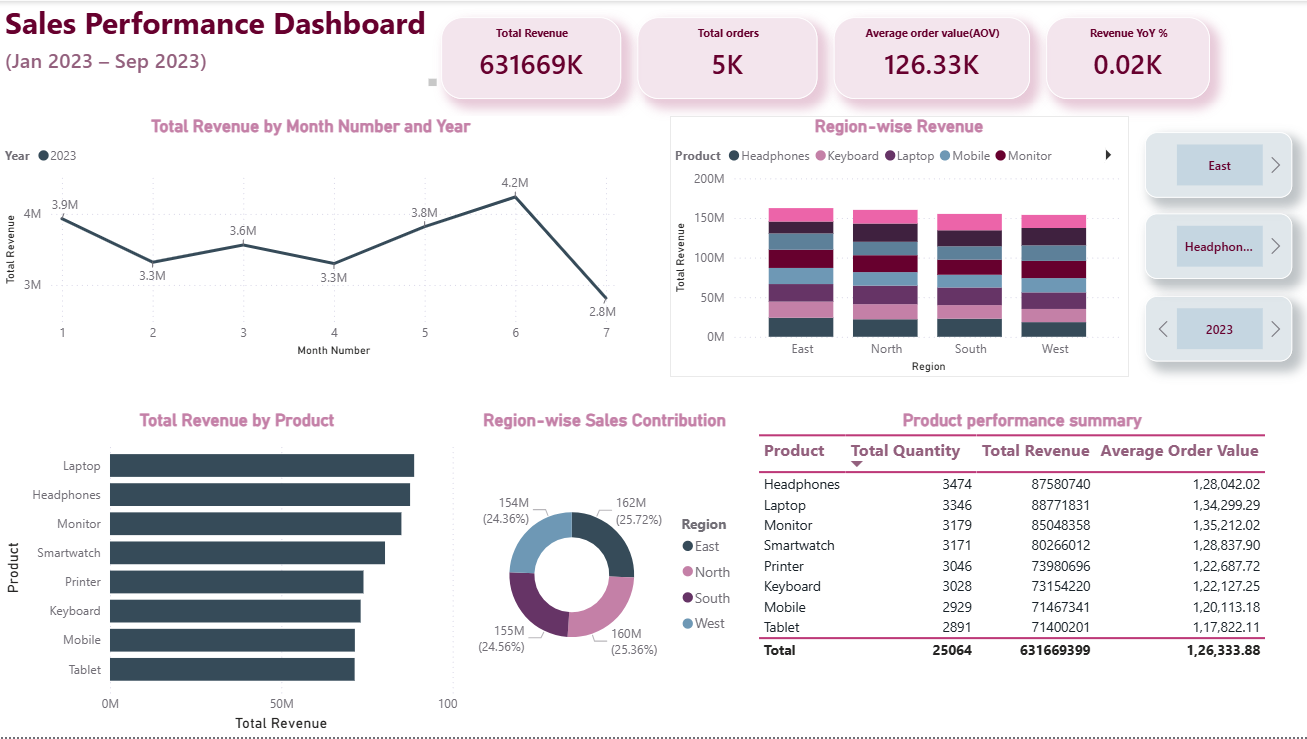

The dashboard page shown, as its layout file describes it:
{"tool":"powerbi","page":{"name":"Page 1","canvas":[1280,720],"ordinal":0},"visuals":[{"type":"card","title":"Total Revenue","fields":{"Values":["Sum(Sales_Data_5000_Rows.Revenue)"]},"box":[28.3,113.2,350.7,99.1],"z":0},{"type":"card","title":"Total Orders","fields":{"Values":["CountNonNull(Sales_Data_5000_Rows.OrderID)"]},"box":[437.6,111.5,350.7,100],"z":1000},{"type":"card","title":"Total Quantity Sold","fields":{"Values":["Sum(Sales_Data_5000_Rows.Quantity)"]},"box":[847.6,111.6,350.7,99.1],"z":2000},{"type":"lineChart","title":"Monthly Revenue Trend","fields":{"Category":["Sales_Data_5000_Rows.MonthName"],"Y":["Sum(Sales_Data_5000_Rows.Revenue)"]},"box":[0,222.1,609,254.3],"z":3000},{"type":"clusteredBarChart","fields":{"Category":["Sales_Data_5000_Rows.Product"],"Y":["Sum(Sales_Data_5000_Rows.Revenue)"]},"box":[609,222.1,671.6,254.3],"z":4000},{"type":"donutChart","title":"Region-wise Sales Contribution","fields":{"Category":["Sales_Data_5000_Rows.Region"],"Y":["Sum(Sales_Data_5000_Rows.Revenue)"]},"box":[0,476.5,437.1,243.7],"z":5000},{"type":"tableEx","title":"Product Performance Summary","fields":{"Values":["Sales_Data_5000_Rows.Product","Sum(Sales_Data_5000_Rows.Quantity)","Sum(Sales_Data_5000_Rows.Revenue)","Sum(Sales_Data_5000_Rows.UnitPrice)"]},"box":[765.8,476.5,514.2,243.7],"z":6000},{"type":"slicer","fields":{"Values":["Sales_Data_5000_Rows.Region","Sales_Data_5000_Rows.Product","Sales_Data_5000_Rows.Year"]},"box":[448.2,492.2,303.5,213.9],"z":7000},{"type":"textbox","title":"Sales Performance Dashboard","box":[0,0,1279.7,105.7],"z":8000}]}

Visuals, with their boxes in screenshot pixels (x1, y1, x2, y2), scaled from the page's 1280x720 canvas onto the 1307x739 screenshot:
"Total Revenue" card: BBox(29, 116, 387, 218)
"Total Orders" card: BBox(447, 114, 805, 217)
"Total Quantity Sold" card: BBox(865, 115, 1224, 216)
"Monthly Revenue Trend" lineChart: BBox(0, 228, 622, 489)
clusteredBarChart - Sales_Data_5000_Rows.Product x Sum(Sales_Data_5000_Rows.Revenue): BBox(622, 228, 1306, 489)
"Region-wise Sales Contribution" donutChart: BBox(0, 489, 446, 738)
"Product Performance Summary" tableEx: BBox(782, 489, 1306, 738)
slicer - Sales_Data_5000_Rows.Region x Sales_Data_5000_Rows.Product: BBox(458, 505, 768, 725)
"Sales Performance Dashboard" textbox: BBox(0, 0, 1306, 108)
